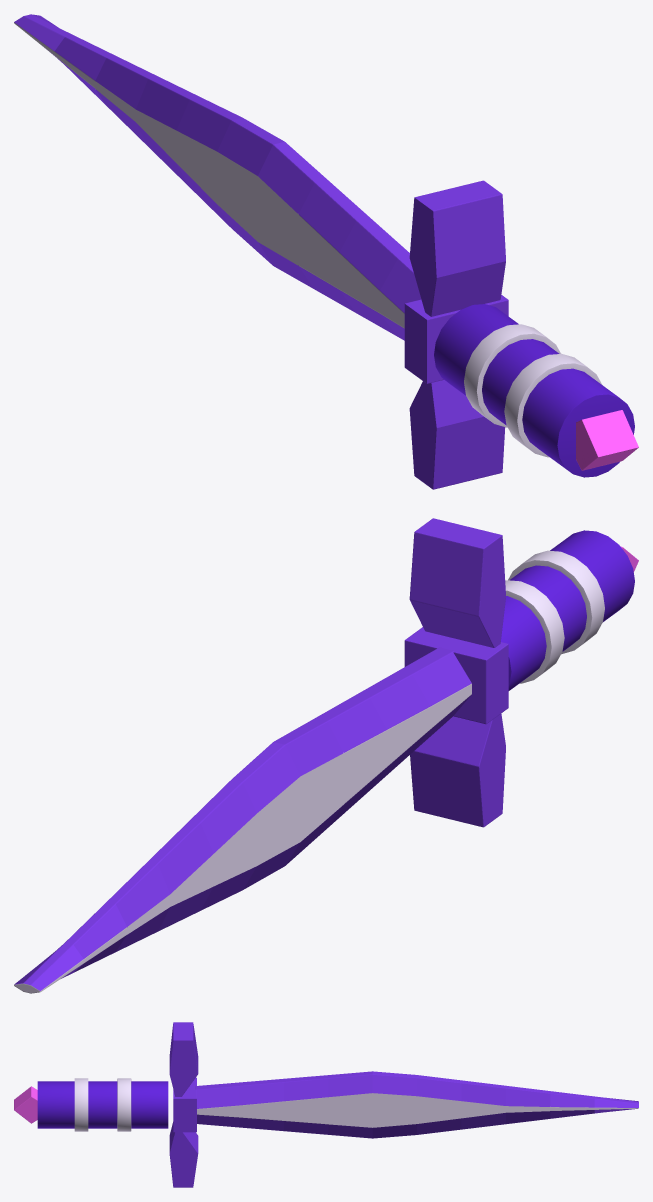
Rendered from Sword_Riftsliver.glb.
The picture shows the model from 3 angles, top to bottom: view 1: azimuth 30°, elevation 25°; view 2: azimuth 150°, elevation 25°; view 3: azimuth 270°, elevation 25°; orthographic projection. The views are drawn at different scales.
Visible parts, largest first — view 1: Sword_Riftsliver; view 2: Sword_Riftsliver; view 3: Sword_Riftsliver.
Boxes of the visible parts, bbox=[...] form: Sword_Riftsliver: bbox=[14, 14, 638, 489]; Sword_Riftsliver: bbox=[14, 518, 638, 993]; Sword_Riftsliver: bbox=[14, 1022, 638, 1187].
Size of the model in its own units: 0.086 by 0.26 by 1.
Materials: 1 (1 with a texture image).
